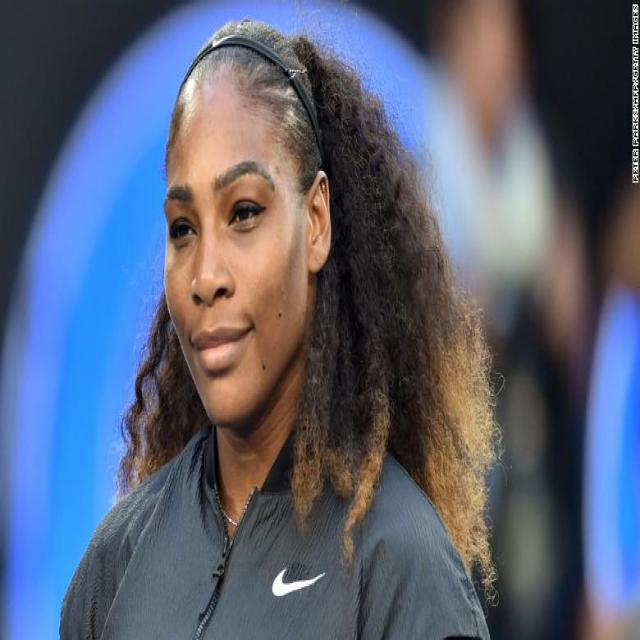mobile_phonerotation: (57, 18, 504, 637)
